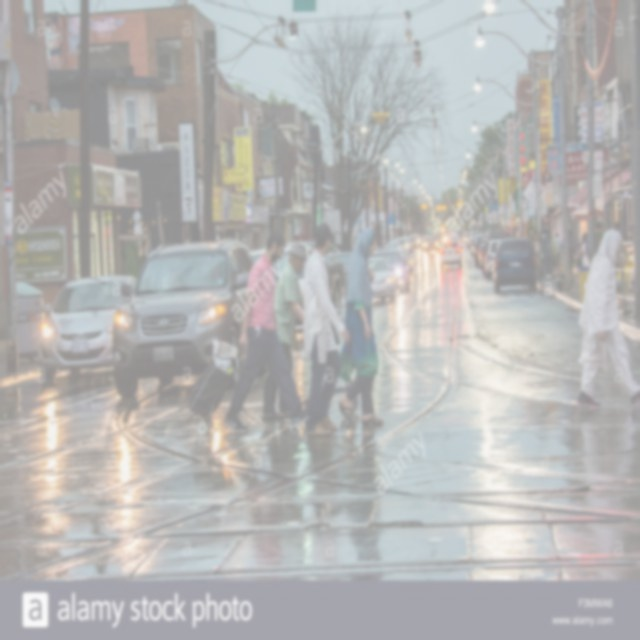pessoa: (220, 229, 314, 434), (576, 228, 640, 408), (334, 223, 388, 428), (300, 221, 350, 438), (260, 240, 308, 423), (44, 24, 60, 66), (594, 220, 608, 254), (549, 232, 559, 278), (580, 230, 592, 268), (578, 234, 588, 268), (568, 228, 574, 284), (554, 232, 563, 263), (532, 240, 538, 270), (585, 232, 590, 260), (540, 251, 544, 261)
